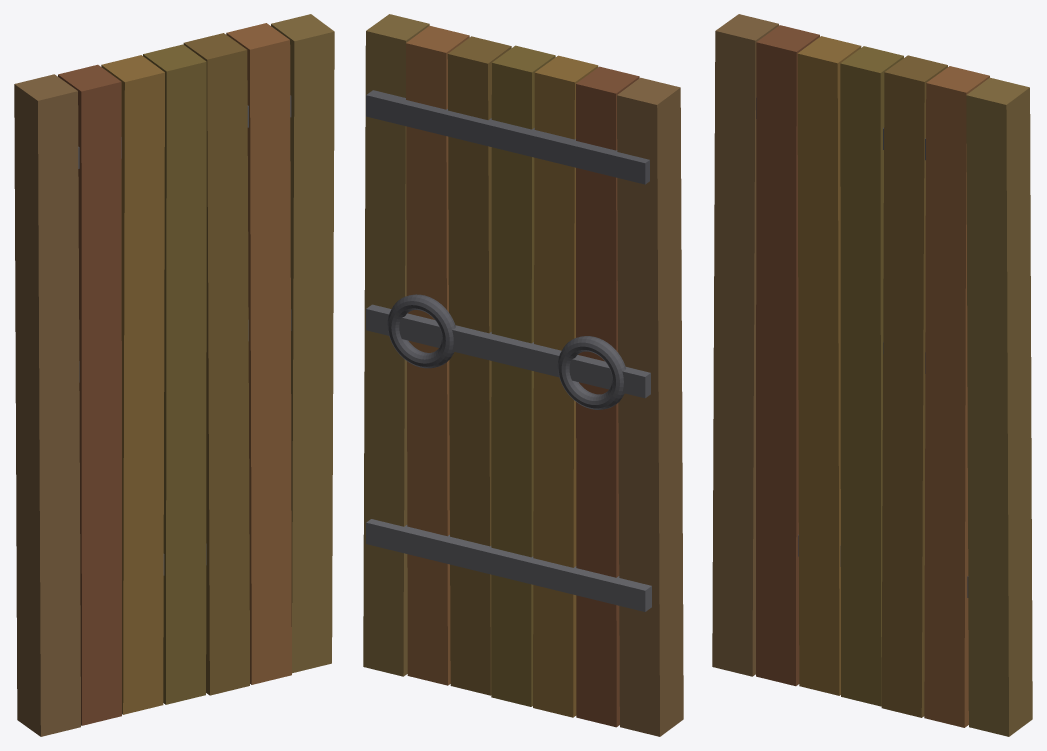
Rendered from door.glb.
3 renders of one model, left to right at view 1: azimuth 30°, elevation 25°; view 2: azimuth 150°, elevation 25°; view 3: azimuth 330°, elevation 25°, orthographic.
Visible parts, largest first — view 1: Hoja_Puerta; view 2: Hoja_Puerta; view 3: Hoja_Puerta.
Part boxes in pixels (box(x1,y1,x2,y2)): Hoja_Puerta: box(14, 14, 334, 736); Hoja_Puerta: box(363, 14, 683, 736); Hoja_Puerta: box(712, 14, 1032, 736).
Size of the model in its own units: 0.8638 by 1.78 by 0.1676.
